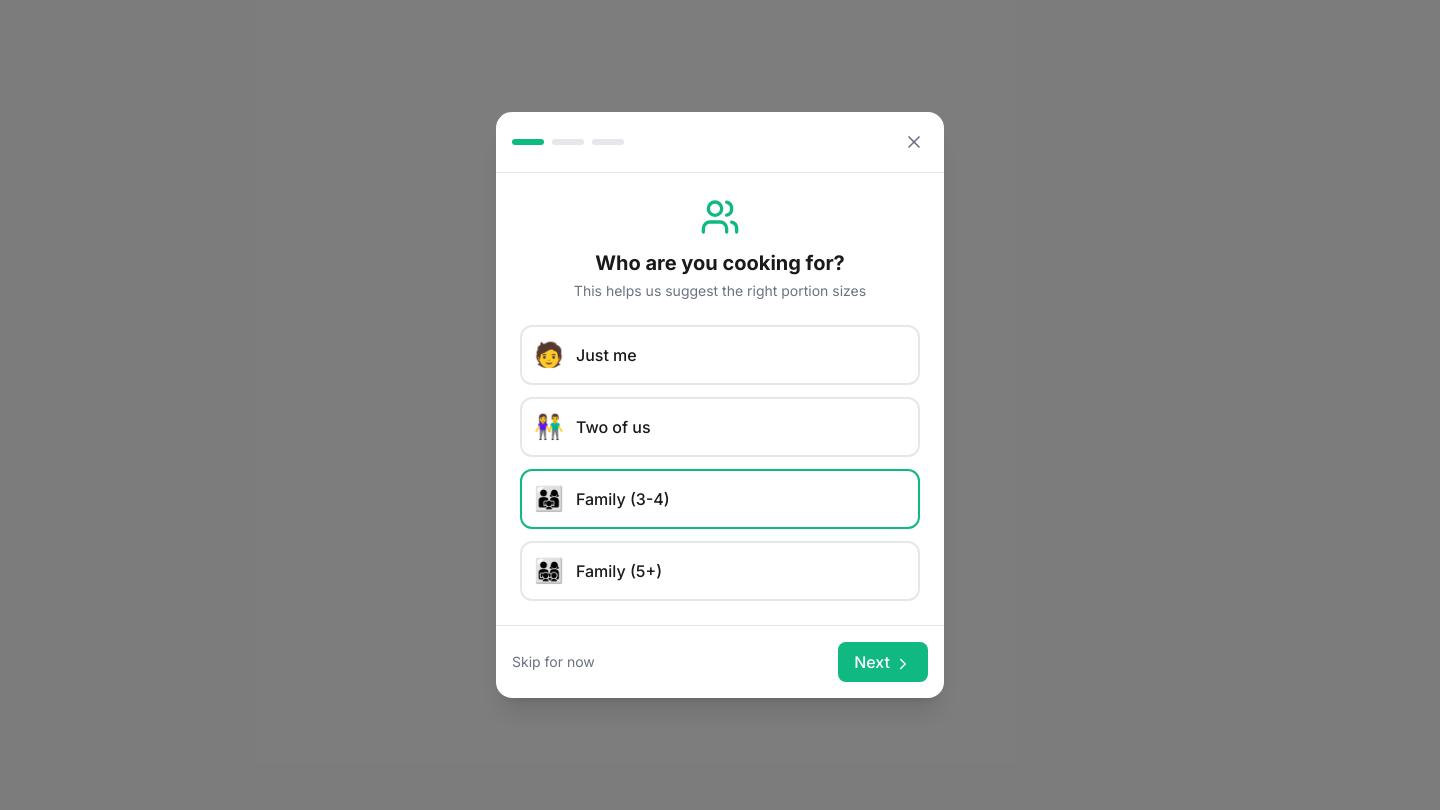
it: OnboardingWizard › navigates to step 3 from step 2
Click the button "Next" at (883, 662), box top-left (838, 642), bottom-right (928, 682)
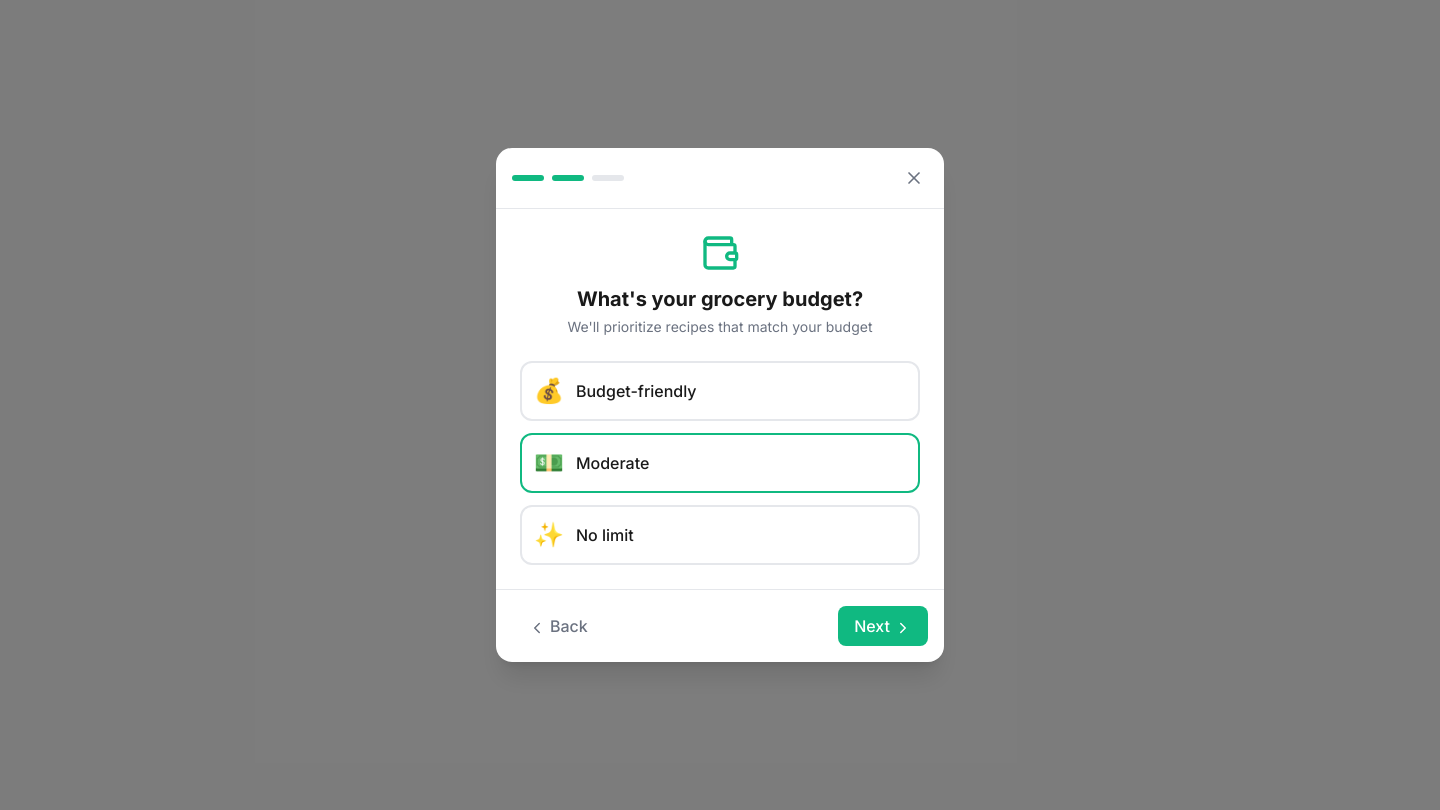
Click the button "Next" at (883, 626), box top-left (838, 606), bottom-right (928, 646)
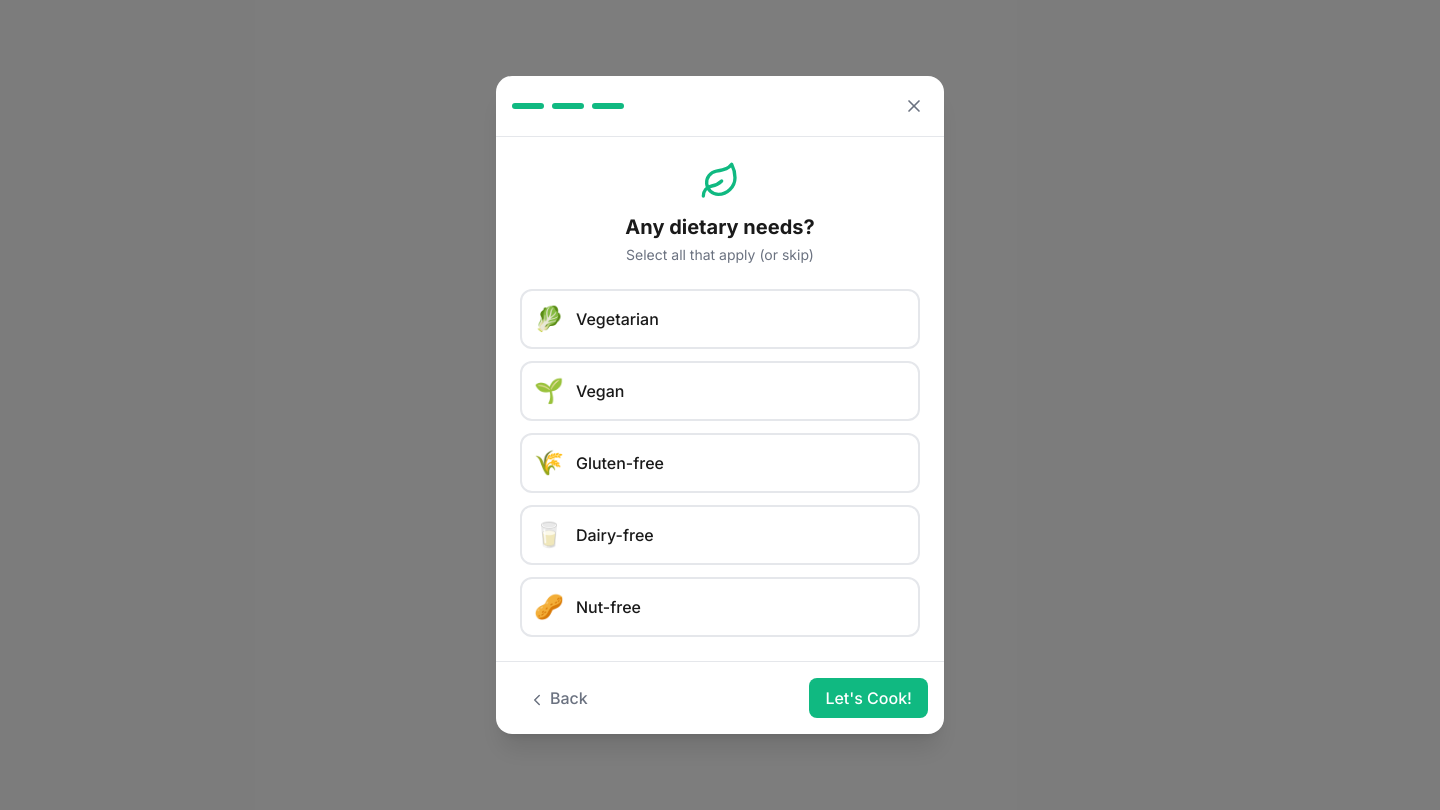
Now the heading "Any dietary needs?" is shown, box top-left (625, 215), bottom-right (815, 239)
Now the text "Vegetarian" is shown, box top-left (576, 307), bottom-right (659, 331)
Now the text "Vegan" is shown, box top-left (576, 379), bottom-right (624, 403)
